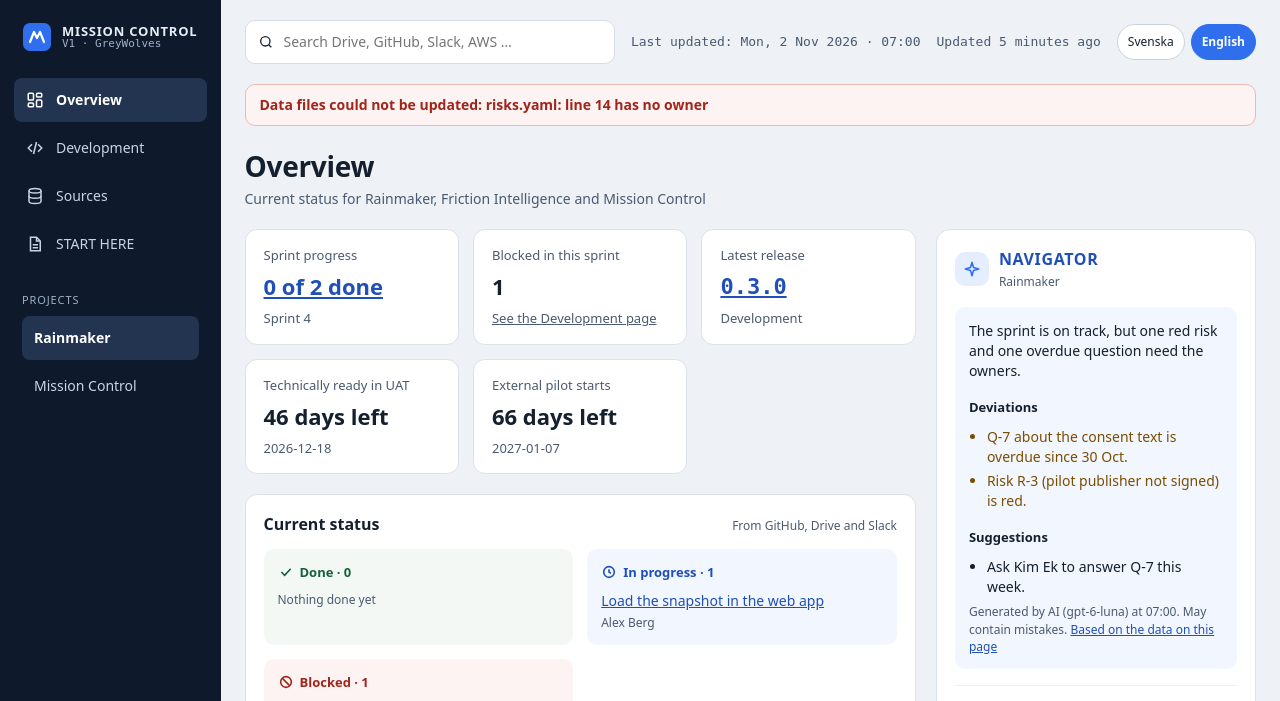
Test case: Navigator AI text › switches the text with the page
The width and height of the screenshot is (1280, 701).
Click the link "Development" at (85, 147), box left=26, top=138, right=144, bottom=157
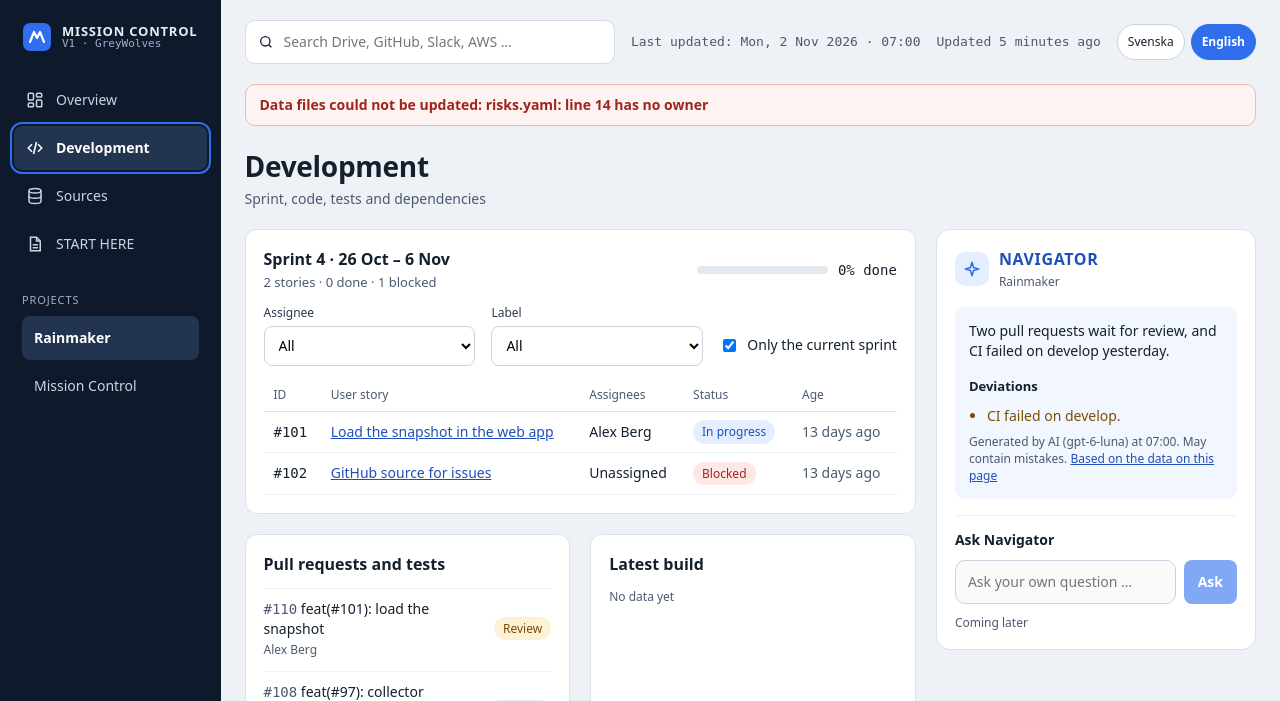
Expected: the element "NAVIGATOR" shows "Two pull requests wait for review, and CI failed on develop yesterday.", left=969, top=321, right=1217, bottom=360
Expected: the element "NAVIGATOR" no longer shows "The sprint is on track", left=936, top=229, right=1256, bottom=650
Expected: the heading "Suggestions" is gone
